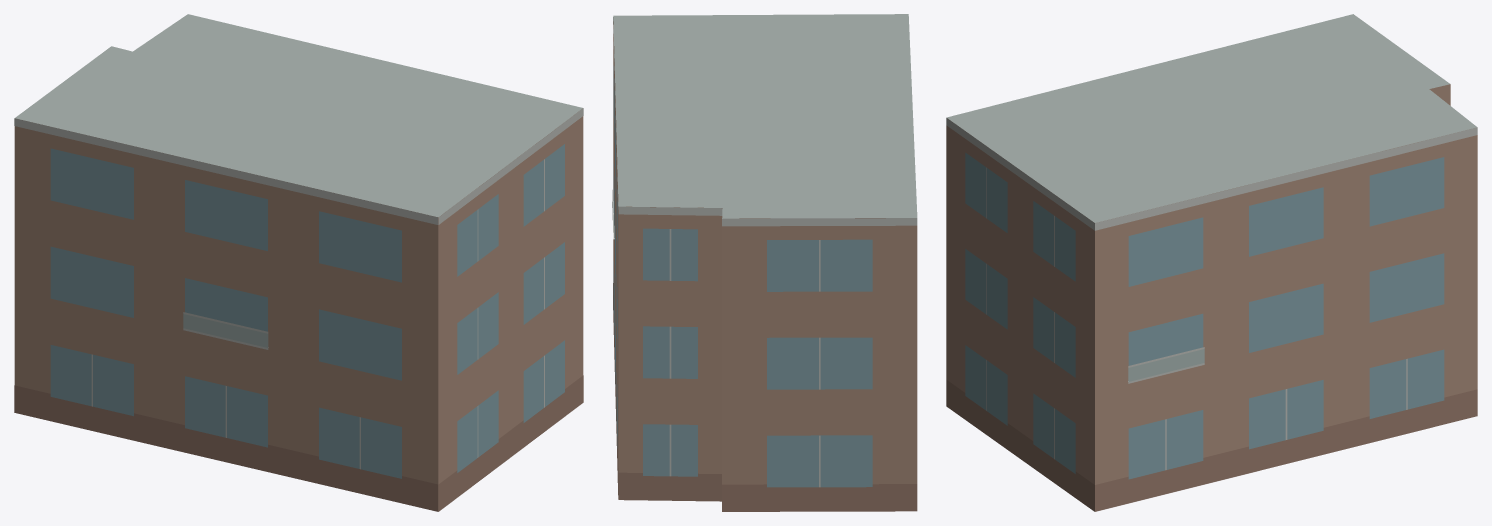
File: survey-upis-32673960.glb
3 views of the same model, side by side, from view 1: azimuth 30°, elevation 25°; view 2: azimuth 150°, elevation 25°; view 3: azimuth 270°, elevation 25° (orthographic). The views are drawn at different scales.
Parts seen in each view (by area): view 1: survey-upis-32673960.tmp; view 2: survey-upis-32673960.tmp; view 3: survey-upis-32673960.tmp.
Boxes of the visible parts, x1=… form: survey-upis-32673960.tmp: x1=14, y1=14, x2=583, y2=511; survey-upis-32673960.tmp: x1=612, y1=14, x2=917, y2=511; survey-upis-32673960.tmp: x1=946, y1=14, x2=1477, y2=511.
Size of the model in its own units: 14.22 by 9.15 by 15.27.
